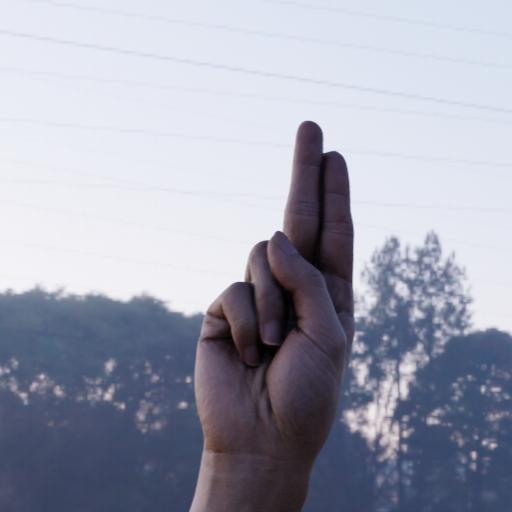U: (193, 119, 359, 466)
